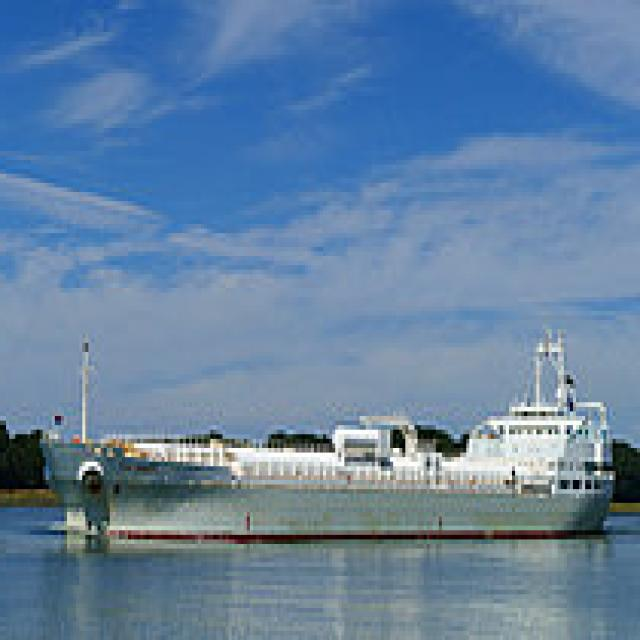Tanker: (46, 315, 618, 544)
